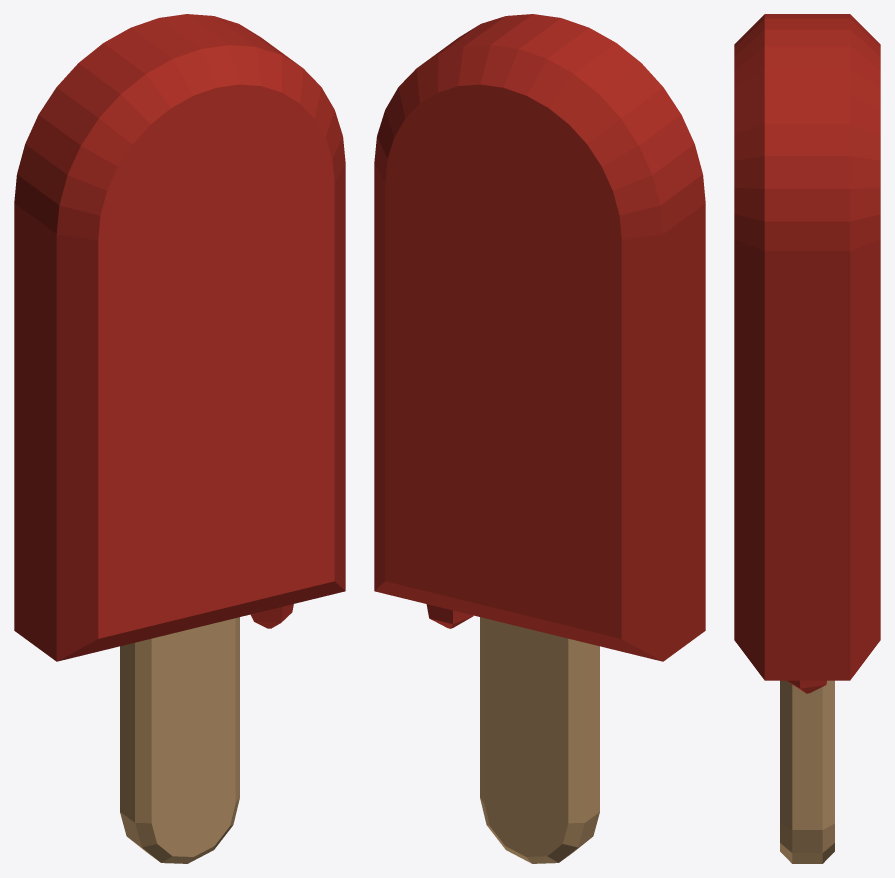
File: popsicle-e577ab.glb
3 renders of one model, left to right at view 1: azimuth 30°, elevation 25°; view 2: azimuth 150°, elevation 25°; view 3: azimuth 270°, elevation 25°, orthographic.
Size of the model in its own units: 0.055 by 0.15 by 0.024.
